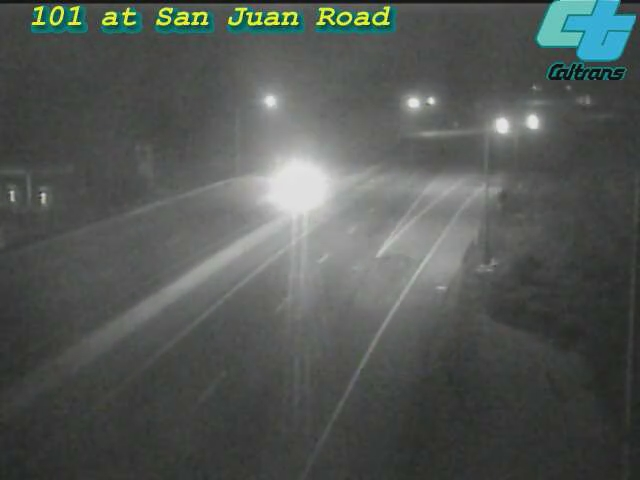vehicle: (254, 147, 334, 227), (479, 102, 529, 152), (506, 98, 556, 148)
